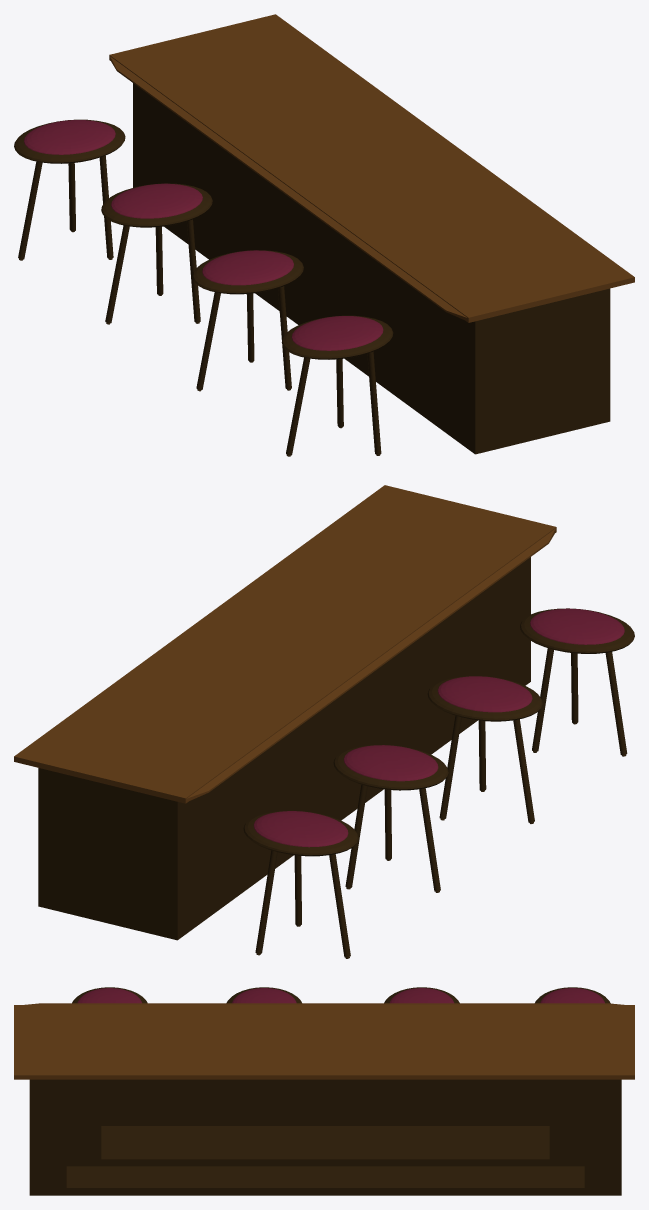
File: barWithChairs.fbx
3 views of the same model, one above another, from view 1: azimuth 30°, elevation 25°; view 2: azimuth 150°, elevation 25°; view 3: azimuth 270°, elevation 25° (orthographic). The views are drawn at different scales.
Parts seen in each view (by area): view 1: Plane, Cube, Sphere.004, Sphere.003, Sphere.007, Sphere, Sphere.002, Sphere.001, Sphere.006, Sphere.005, Cylinder.011, Cylinder.002 (+5 smaller); view 2: Plane, Cube, Sphere.004, Sphere.007, Sphere.003, Sphere, Sphere.001, Sphere.002, Sphere.006, Sphere.005, Cylinder.009, Cylinder.002 (+6 smaller); view 3: Cube, Plane, Sphere, Sphere.004, Sphere.003, Sphere.007.
Boxes of the visible parts, <box> form: Plane: <box>109,14,634,322</box>; Cube: <box>133,83,610,454</box>; Sphere.004: <box>202,250,293,285</box>; Sphere.003: <box>111,183,202,218</box>; Sphere.007: <box>291,316,383,350</box>; Sphere: <box>24,120,115,154</box>; Sphere.002: <box>101,183,212,227</box>; Sphere.001: <box>14,119,125,163</box>; Sphere.006: <box>281,315,393,359</box>; Sphere.005: <box>192,250,303,294</box>; Cylinder.011: <box>367,351,381,455</box>; Cylinder.002: <box>18,161,42,260</box>; Plane: <box>14,485,556,803</box>; Cube: <box>38,557,530,940</box>; Sphere.004: <box>437,676,532,712</box>; Sphere.007: <box>530,608,624,644</box>; Sphere.003: <box>343,745,438,781</box>; Sphere: <box>253,811,348,847</box>; Sphere.001: <box>243,810,358,856</box>; Sphere.002: <box>333,745,448,790</box>; Sphere.006: <box>520,608,634,653</box>; Sphere.005: <box>427,676,542,721</box>; Cylinder.009: <box>605,651,627,756</box>; Cylinder.002: <box>329,854,350,958</box>; Cube: <box>29,1079,621,1195</box>; Plane: <box>14,1003,634,1079</box>; Sphere: <box>540,988,604,1003</box>; Sphere.004: <box>232,988,296,1003</box>; Sphere.003: <box>389,988,454,1003</box>; Sphere.007: <box>77,988,141,1003</box>.
Size of the model in its own units: 816 by 402 by 1734.
